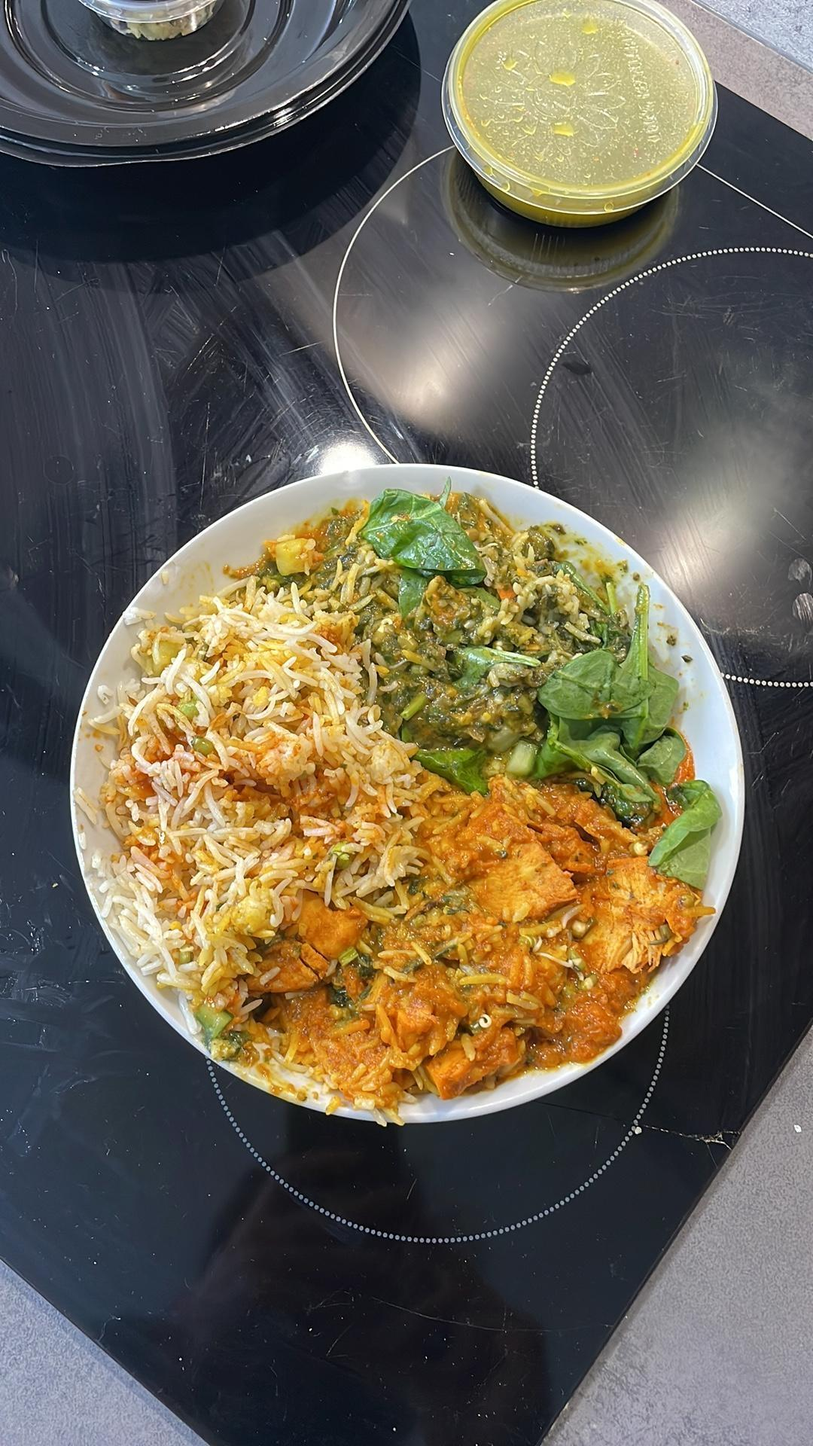lettuce: (357, 487, 492, 592), (536, 718, 665, 808), (393, 712, 502, 800), (617, 586, 669, 759), (541, 650, 662, 722), (547, 552, 628, 645), (659, 779, 721, 893)
